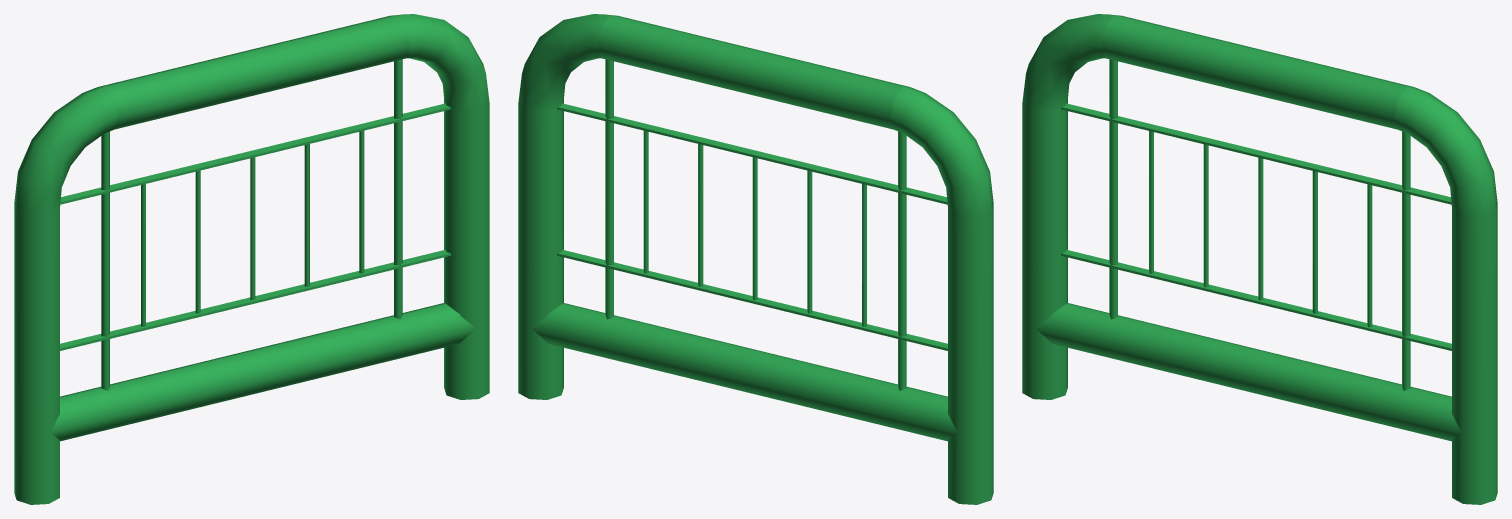
The model's file is rails.fbx.
The picture shows the model from 3 angles, left to right: view 1: azimuth 30°, elevation 25°; view 2: azimuth 150°, elevation 25°; view 3: azimuth 330°, elevation 25°; orthographic projection.
Parts seen in each view (by area): view 1: pCylinder37; view 2: pCylinder37; view 3: pCylinder37.
Part boxes in pixels (x1,y1,x2,y2): pCylinder37: (14, 14, 489, 504); pCylinder37: (518, 14, 993, 504); pCylinder37: (1022, 14, 1497, 504).
Bounding box in the file's own units: 161 × 128 × 14.
